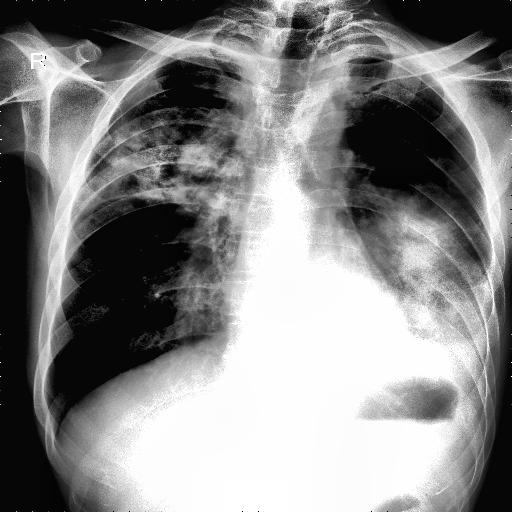1- Atelectasis: (74, 108, 248, 214)
10- Pleural effusion: (392, 260, 486, 402), (428, 248, 494, 364)
11- Pleural thickening: (152, 26, 262, 61), (334, 24, 408, 60)
13- Pulmonary fibrosis: (74, 108, 248, 214)
4- Consolidation: (349, 197, 490, 362), (74, 108, 248, 214), (378, 196, 460, 307)
6- Infiltration: (74, 108, 248, 214), (82, 106, 239, 207), (176, 225, 228, 335)
7- Lung Opacity: (349, 197, 490, 362), (368, 188, 480, 342), (82, 106, 239, 207), (87, 120, 219, 207), (176, 225, 228, 335)
